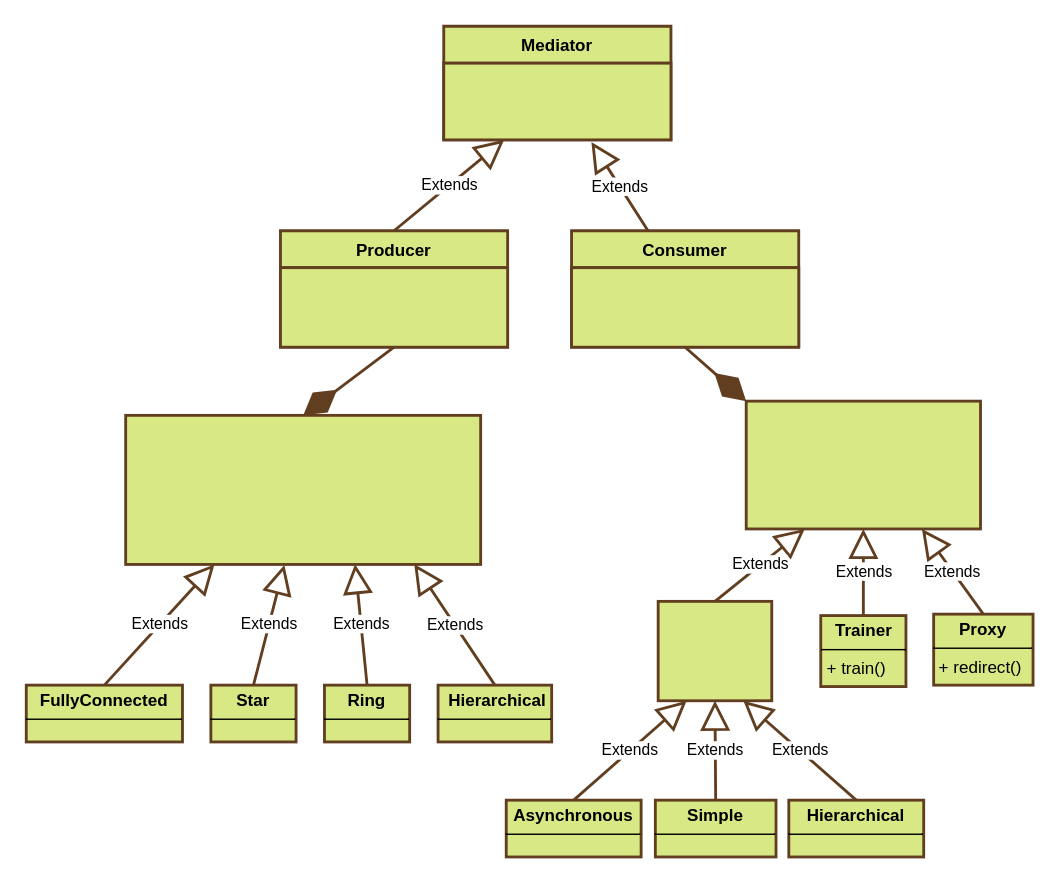
This 1058x882 diagram has some shape labels left out. Here are the shapes that lost their labels. From the top down, the centre of each, then its label:
pixel 557 101: received_operations: queue to_be_sent_packets: queue network_events: queue
pixel 393 307: + put_event() + get_to_be_sent() + put_received_op()
pixel 684 307: + get_event() + put_to_be_sent() + get_received_op()
pixel 862 464: <<Abstract>> Role + run(): void + get_role_type(): NodeRole
pixel 302 489: <<Abstract>> NetworkManager node_name + put(Packet, node_name) + get(): Packet
pixel 714 650: <<Abstract>> Aggregator + aggregate()
